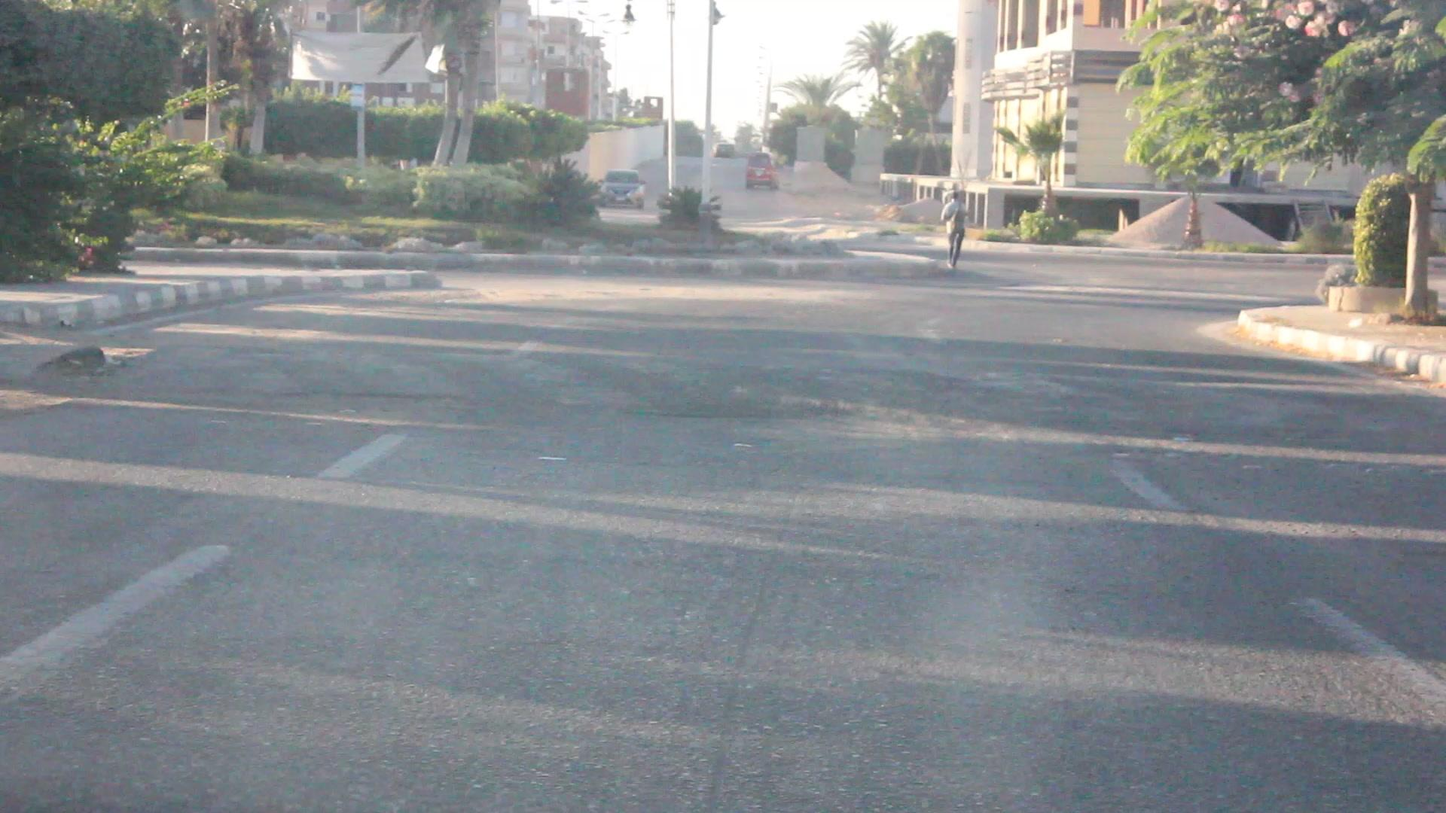Bump: (26, 341, 1401, 450)
